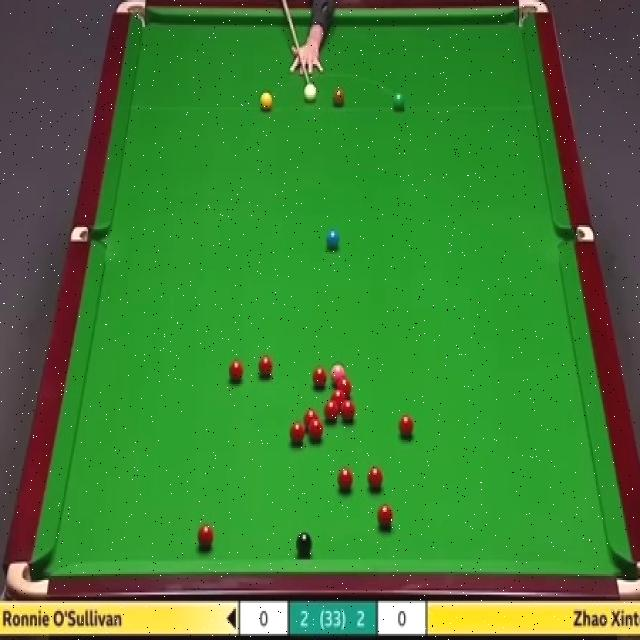black-ball: (294, 529, 313, 554)
blue-ball: (326, 230, 340, 248)
brown-ball: (333, 88, 345, 107)
green-ball: (391, 89, 406, 112)
pink-ball: (327, 365, 344, 380)
red-ball: (197, 525, 213, 553), (398, 411, 414, 438), (227, 358, 243, 384), (309, 416, 325, 440), (323, 400, 339, 423), (376, 502, 390, 528), (339, 470, 354, 494), (366, 466, 382, 488), (290, 424, 306, 444), (257, 357, 273, 376), (340, 396, 354, 417), (329, 388, 344, 407), (336, 378, 351, 396), (314, 366, 326, 387)
white-ball: (303, 81, 316, 102)
yellow-ball: (260, 91, 272, 112)
